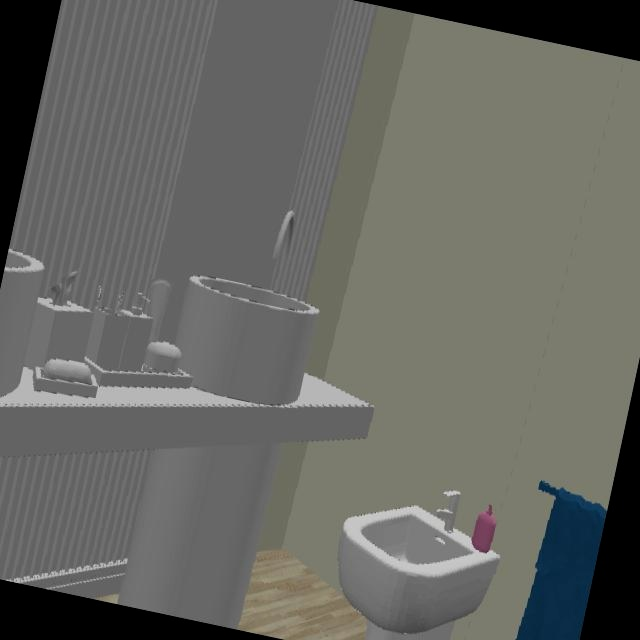shelf: (0, 368, 373, 458)
washbasin: (175, 210, 318, 405), (338, 493, 498, 634)
